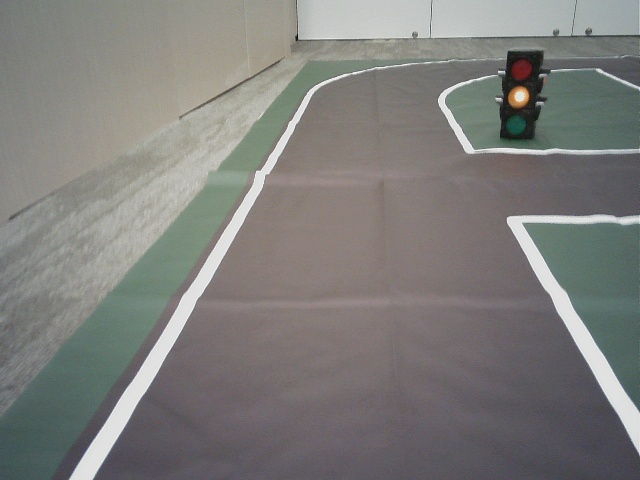yellow: (501, 55, 534, 134)
